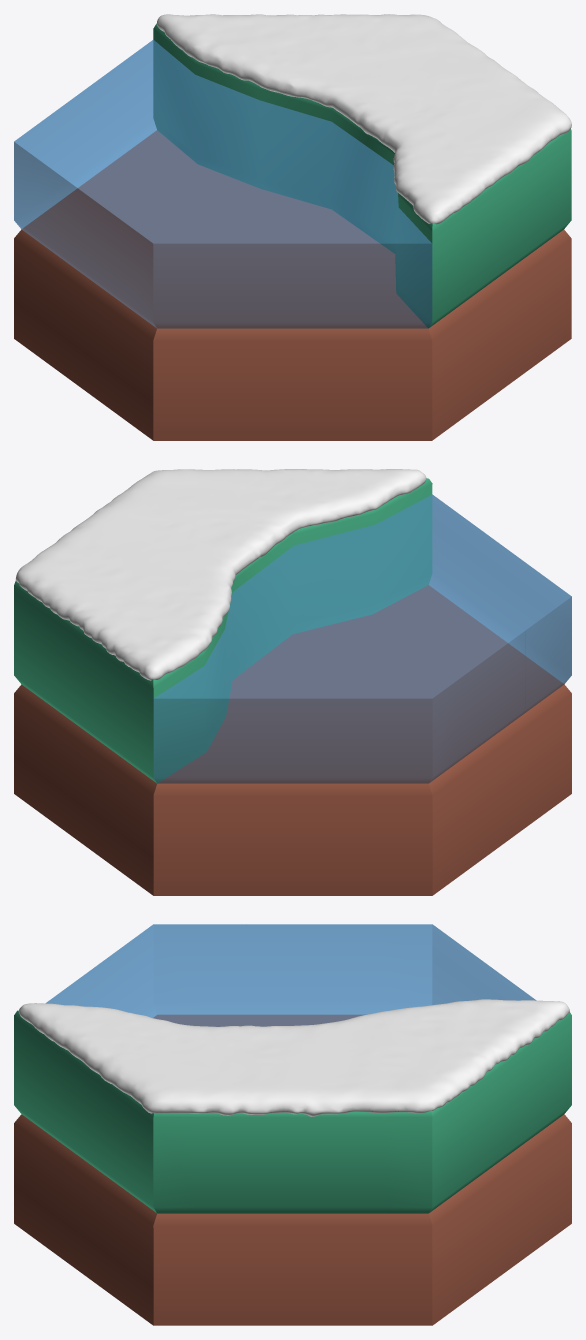
Rendered from hex_forest_waterC_detail.fbx.
The picture shows the model from 3 angles, top to bottom: view 1: azimuth 30°, elevation 25°; view 2: azimuth 150°, elevation 25°; view 3: azimuth 270°, elevation 25°; orthographic projection.
Parts seen in each view (by area): view 1: hex_forest_waterC_detail.001, hex_forest_waterC_detail, hex_forest_waterC_detail.002, SnowBall.001; view 2: hex_forest_waterC_detail.001, hex_forest_waterC_detail, hex_forest_waterC_detail.002, SnowBall.001; view 3: hex_forest_waterC_detail.001, hex_forest_waterC_detail.002, SnowBall.001, hex_forest_waterC_detail.
Part boxes in pixels (bbox=[...]): hex_forest_waterC_detail.001: bbox=[14, 130, 571, 440]; hex_forest_waterC_detail: bbox=[14, 39, 432, 328]; hex_forest_waterC_detail.002: bbox=[153, 24, 571, 328]; SnowBall.001: bbox=[156, 14, 571, 224]; hex_forest_waterC_detail.001: bbox=[14, 585, 571, 895]; hex_forest_waterC_detail: bbox=[153, 494, 571, 783]; hex_forest_waterC_detail.002: bbox=[14, 478, 432, 783]; SnowBall.001: bbox=[15, 469, 426, 680]; hex_forest_waterC_detail.001: bbox=[14, 1015, 571, 1325]; hex_forest_waterC_detail.002: bbox=[14, 1010, 571, 1213]; SnowBall.001: bbox=[18, 999, 569, 1116]; hex_forest_waterC_detail: bbox=[45, 924, 536, 1026].
Size of the model in its own units: 202 by 104 by 231.
